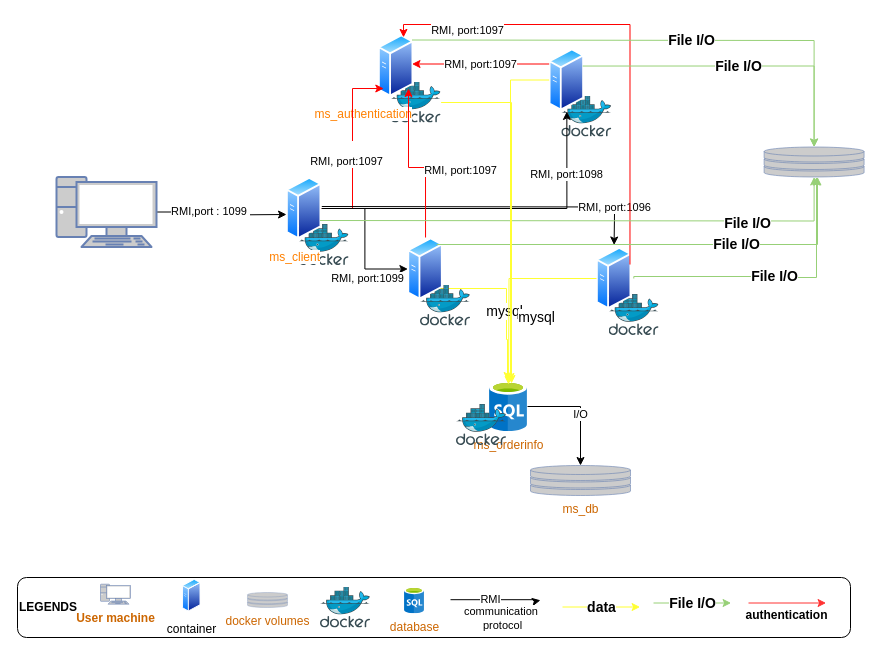
This 883x658 diagram has some shape labels left out. The shapes that lost their labels are listed below. From the top down, each one's centre as x and y in pixels, then its label:
the point at 566,79: ms_retrieve
the point at 814,162: ms_logs
the point at 106,212: Order UI ( java client)
the point at 425,268: ms_create
the point at 613,278: ms_delete
